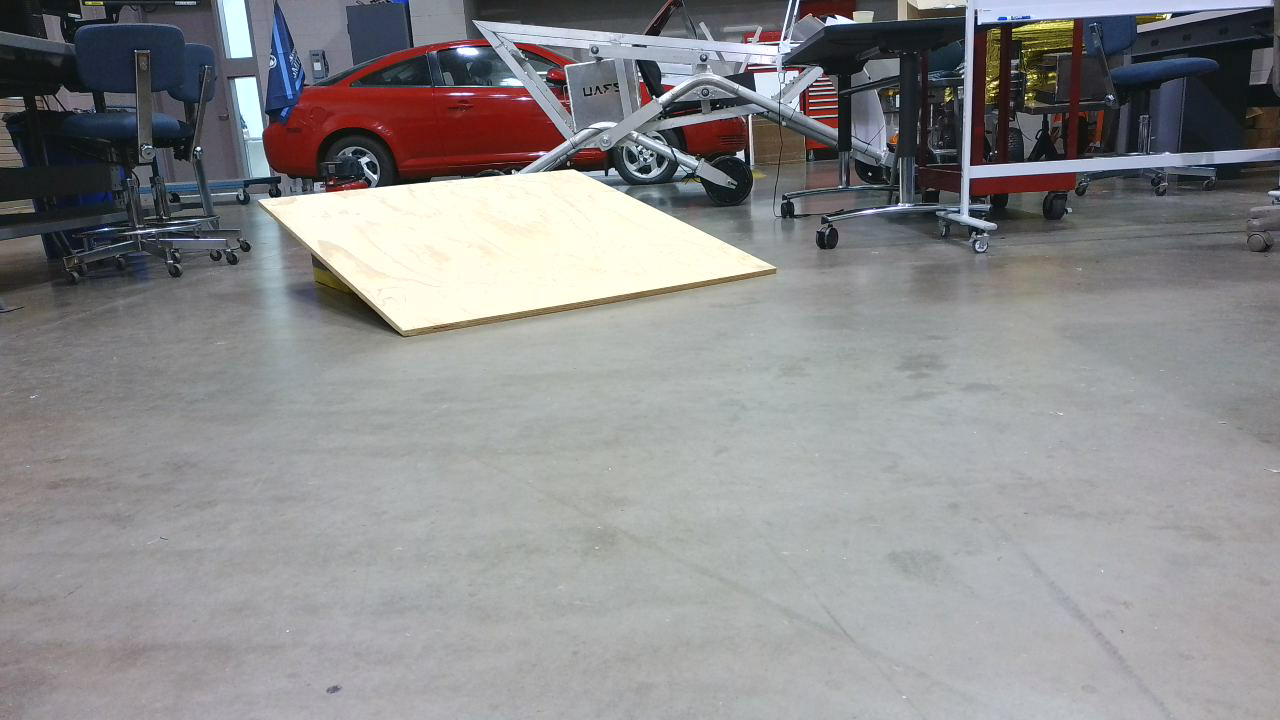concrete_block: (258, 174, 790, 340)
